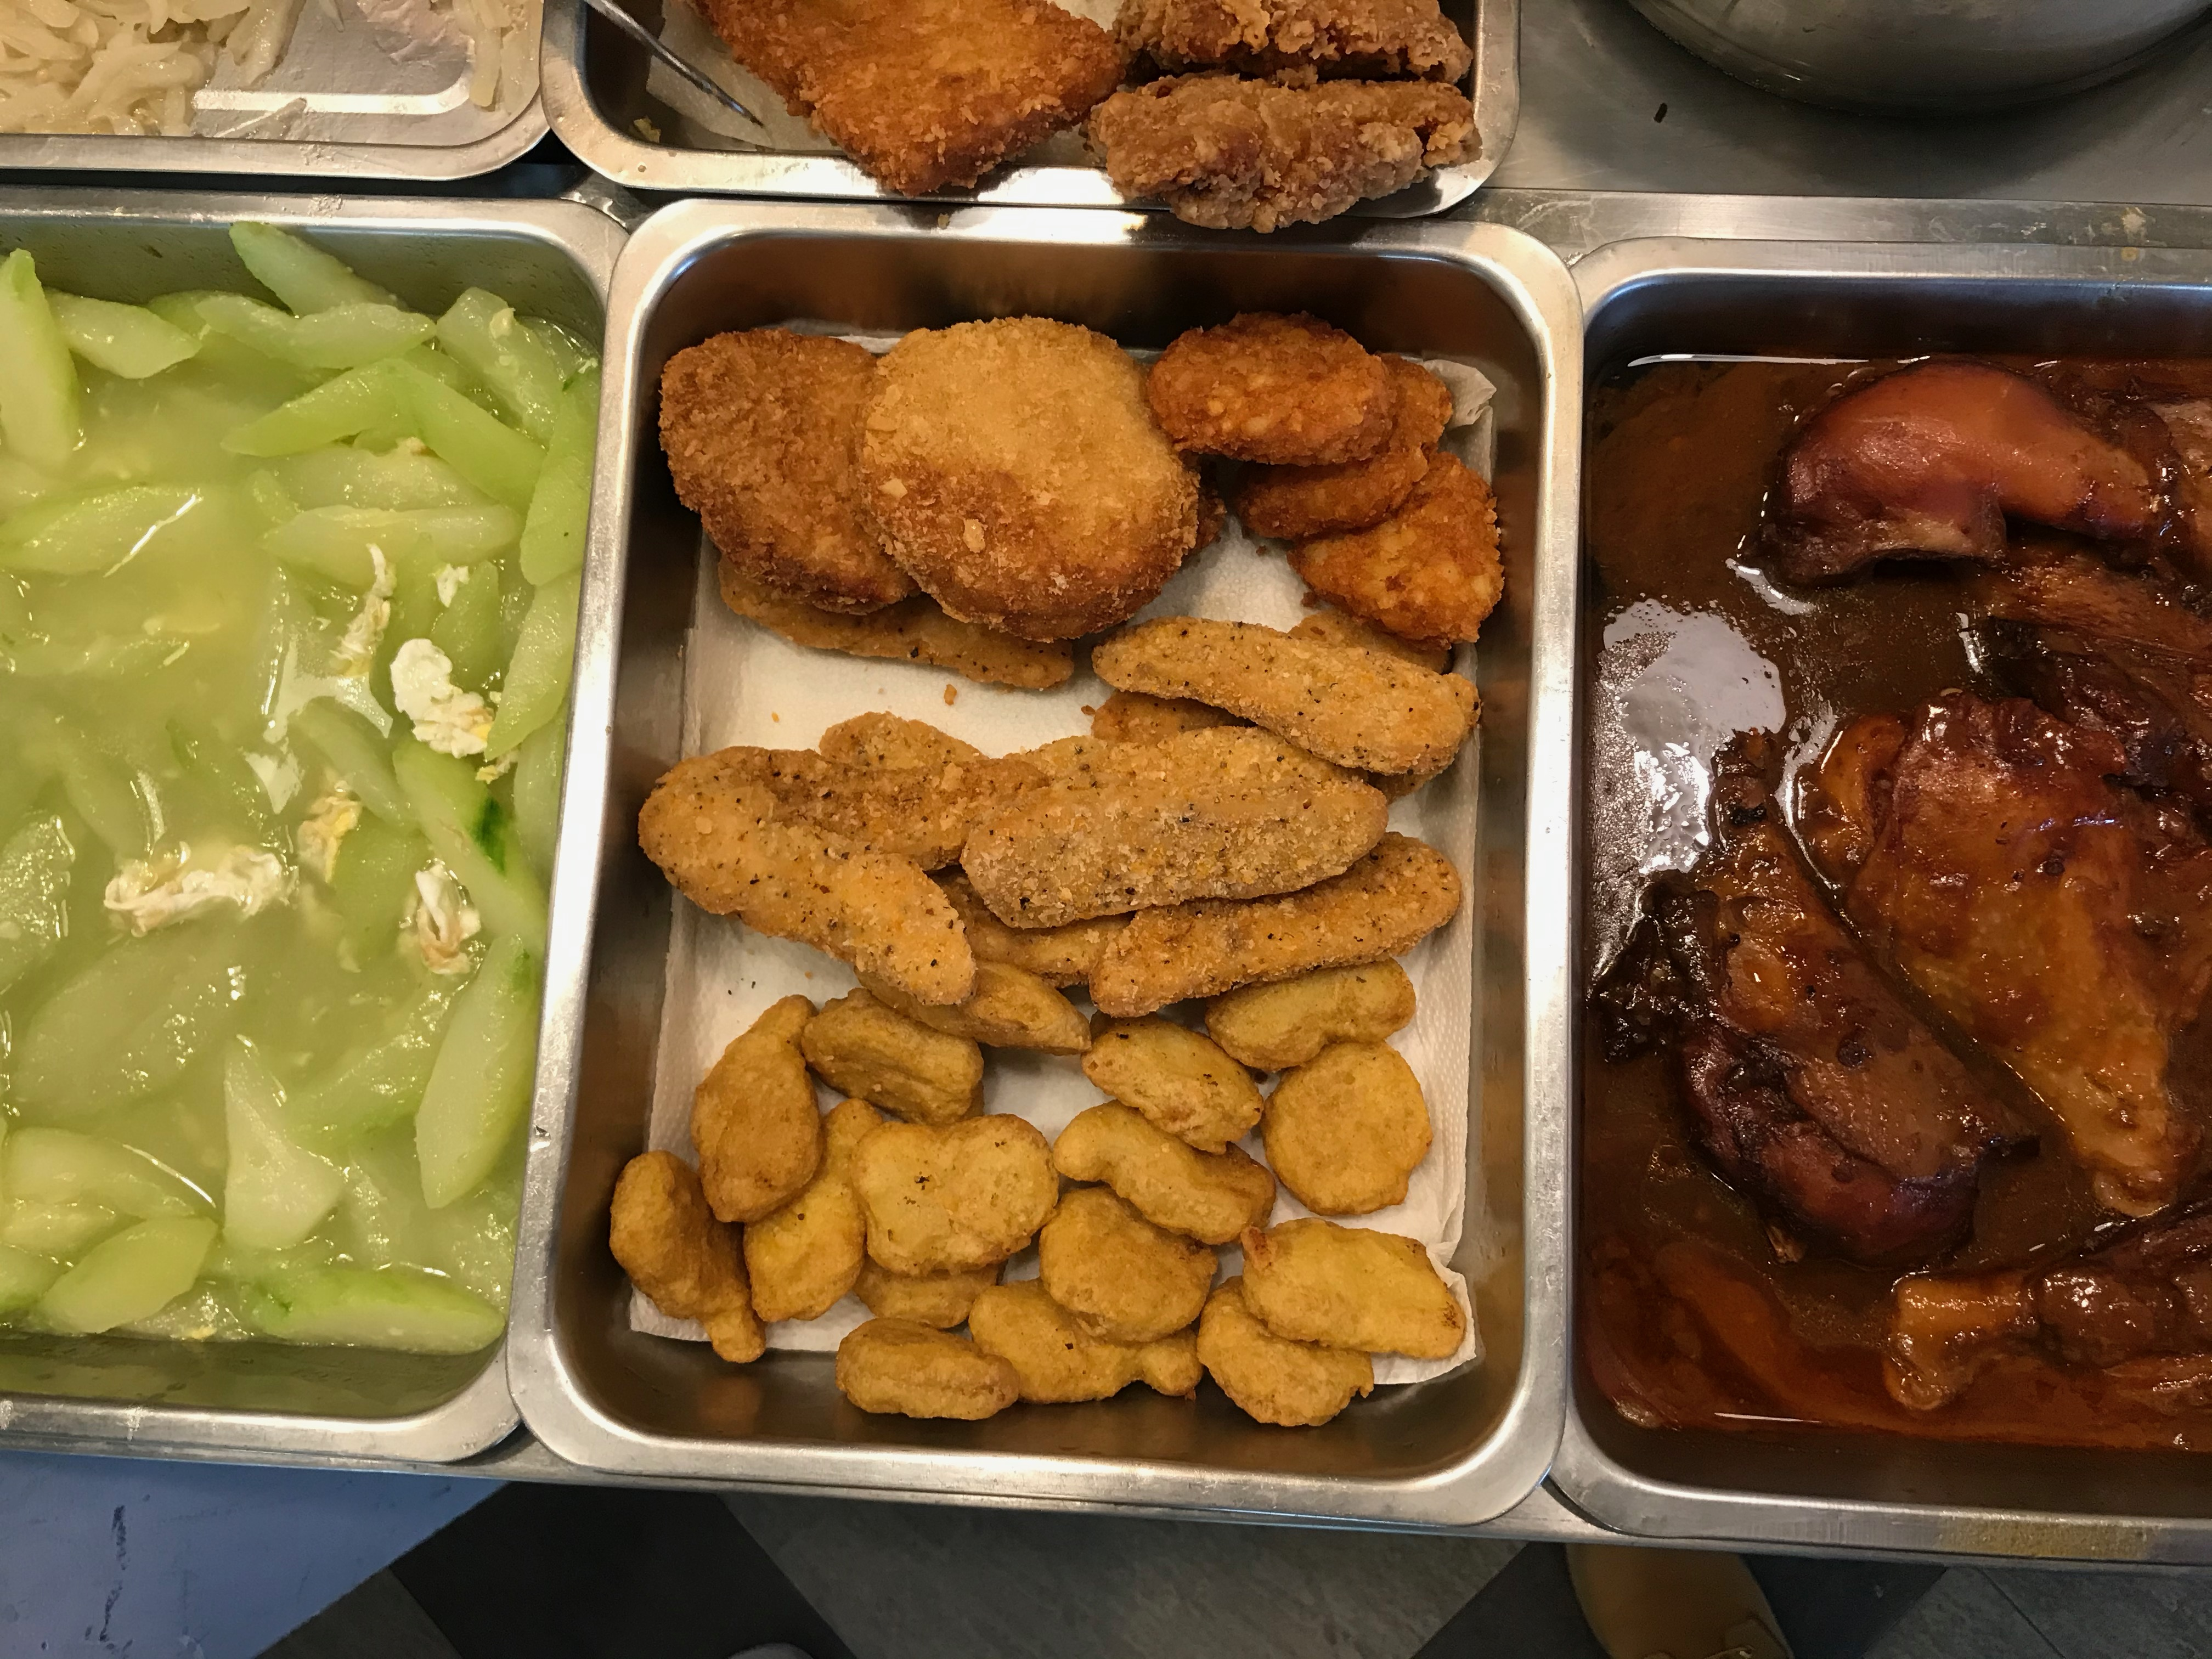chicken_nuggets: (613, 995, 1467, 1427)
triangle_hash_brown: (1146, 312, 1507, 647)
